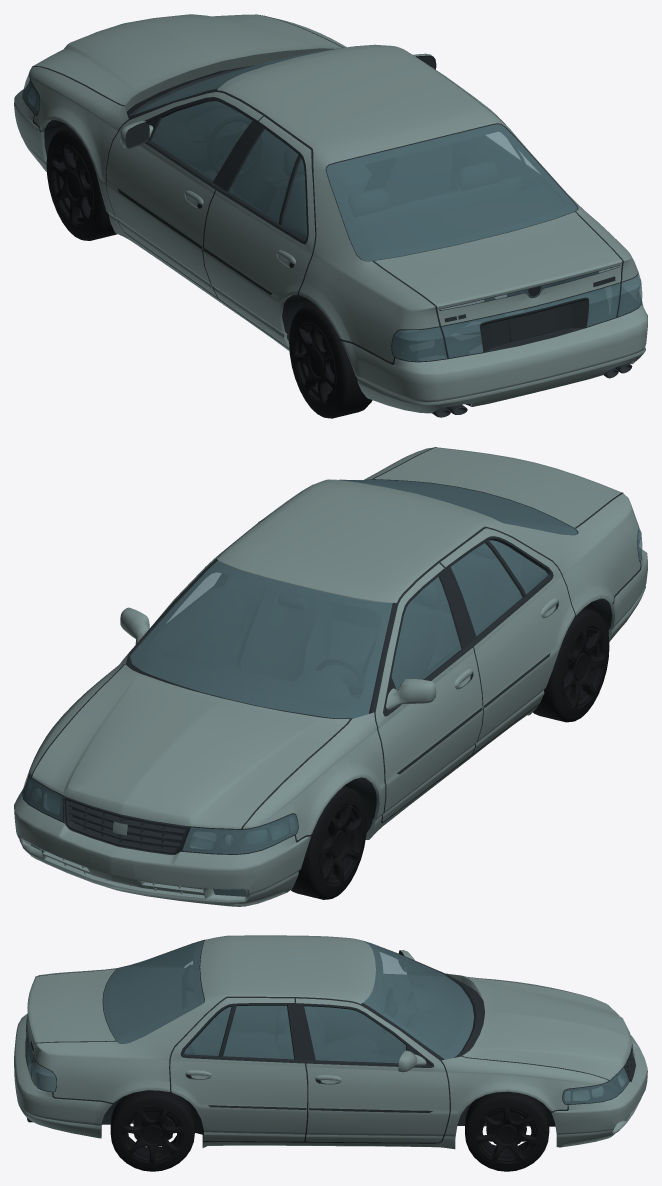
Rendered from carter-sedan.glb.
3 views of the same model, one above another, from view 1: azimuth 30°, elevation 25°; view 2: azimuth 150°, elevation 25°; view 3: azimuth 270°, elevation 25° (orthographic). The views are drawn at different scales.
Visible parts, largest first — view 1: Carter98_Body, Carter98_Interior, Carter98_Glass_Rear, Carter98_Bottom, Carter98_Hood, Carter98_Bumper_Rear, Carter98_WhellStock_RL, Carter98_Taillights_Glass, Carter98_WhellStock_FL, Carter98_Body_Glass, Carter98_Glass_Driver, Carter98_Brakelights (+7 smaller); view 2: Carter98_Body, Carter98_Interior, Carter98_Hood, Carter98_Windshield, Carter98_Bottom, Carter98_Bumper_Front, Carter98_WhellStock_FL, Carter98_WhellStock_RL, Carter98_Body_Glass, Carter98_Glass_Driver, Carter98_Headlights_Glass, Carter98_Glass_Rear (+4 smaller); view 3: Carter98_Body, Carter98_Interior, Carter98_Hood, Carter98_Bottom, Carter98_Windshield, Carter98_Glass_Rear, Carter98_WhellStock_RR, Carter98_WhellStock_FR, Carter98_Body_Glass, Carter98_Glass_Passenger, Carter98_Bumper_Rear, Carter98_Bumper_Front (+4 smaller).
Boxes of the visible parts, left/top/right/bottom form: Carter98_Body: left=29, top=17, right=638, bottom=362; Carter98_Interior: left=146, top=68, right=566, bottom=253; Carter98_Glass_Rear: left=326, top=124, right=577, bottom=260; Carter98_Bottom: left=22, top=51, right=641, bottom=417; Carter98_Hood: left=33, top=14, right=342, bottom=111; Carter98_Bumper_Rear: left=341, top=301, right=647, bottom=413; Carter98_WhellStock_RL: left=289, top=304, right=372, bottom=418; Carter98_Taillights_Glass: left=392, top=273, right=642, bottom=361; Carter98_WhellStock_FL: left=46, top=127, right=117, bottom=240; Carter98_Body_Glass: left=229, top=129, right=306, bottom=239; Carter98_Glass_Driver: left=151, top=101, right=252, bottom=180; Carter98_Brakelights: left=392, top=287, right=641, bottom=360; Carter98_Body: left=29, top=447, right=640, bottom=896; Carter98_Interior: left=146, top=480, right=566, bottom=707; Carter98_Hood: left=32, top=664, right=349, bottom=828; Carter98_Windshield: left=130, top=560, right=392, bottom=718; Carter98_Bottom: left=22, top=479, right=641, bottom=855; Carter98_Bumper_Front: left=14, top=789, right=310, bottom=906; Carter98_WhellStock_FL: left=291, top=786, right=366, bottom=899; Carter98_WhellStock_RL: left=533, top=608, right=609, bottom=722; Carter98_Body_Glass: left=450, top=540, right=547, bottom=636; Carter98_Glass_Driver: left=391, top=577, right=461, bottom=689; Carter98_Headlights_Glass: left=22, top=769, right=298, bottom=854; Carter98_Glass_Rear: left=339, top=479, right=577, bottom=535; Carter98_Body: left=27, top=935, right=608, bottom=1149; Carter98_Interior: left=109, top=944, right=464, bottom=1062; Carter98_Hood: left=461, top=975, right=632, bottom=1080; Carter98_Bottom: left=25, top=939, right=635, bottom=1147; Carter98_Windshield: left=363, top=941, right=473, bottom=1059; Carter98_Glass_Rear: left=103, top=940, right=204, bottom=1043; Carter98_WhellStock_RR: left=110, top=1090, right=194, bottom=1171; Carter98_WhellStock_FR: left=465, top=1091, right=549, bottom=1171; Carter98_Body_Glass: left=184, top=1005, right=294, bottom=1059; Carter98_Glass_Passenger: left=304, top=1006, right=406, bottom=1063; Carter98_Bumper_Rear: left=14, top=1013, right=112, bottom=1138; Carter98_Bumper_Front: left=551, top=1035, right=647, bottom=1147.
Bounding box in the file's own units: 1.89 × 1.29 × 4.55.
